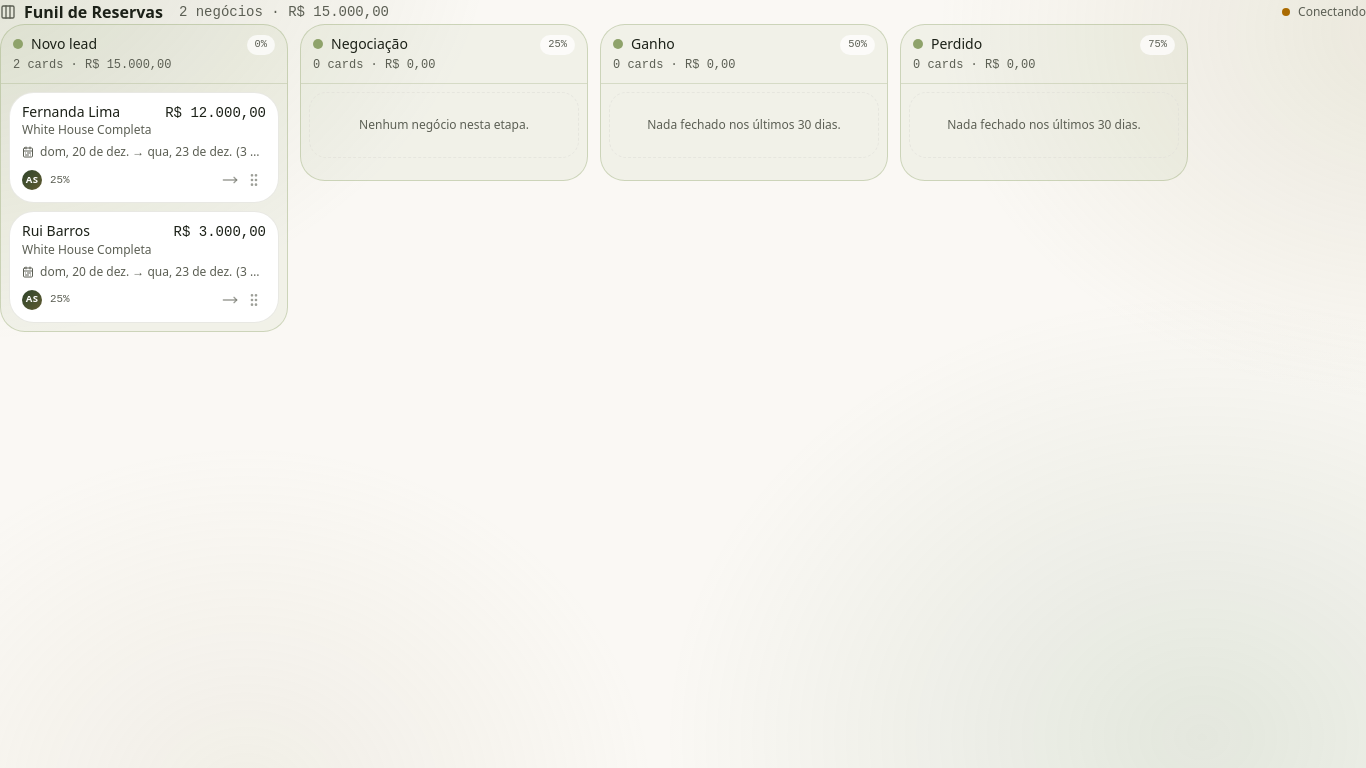
Test: PipelineKanban — colunas terminais › não move o card para Perdido: pede o motivo antes
Step 1. Click the button named "Mover Fernanda Lima para outra etapa" → [230, 180], box left=218, top=168, right=242, bottom=192
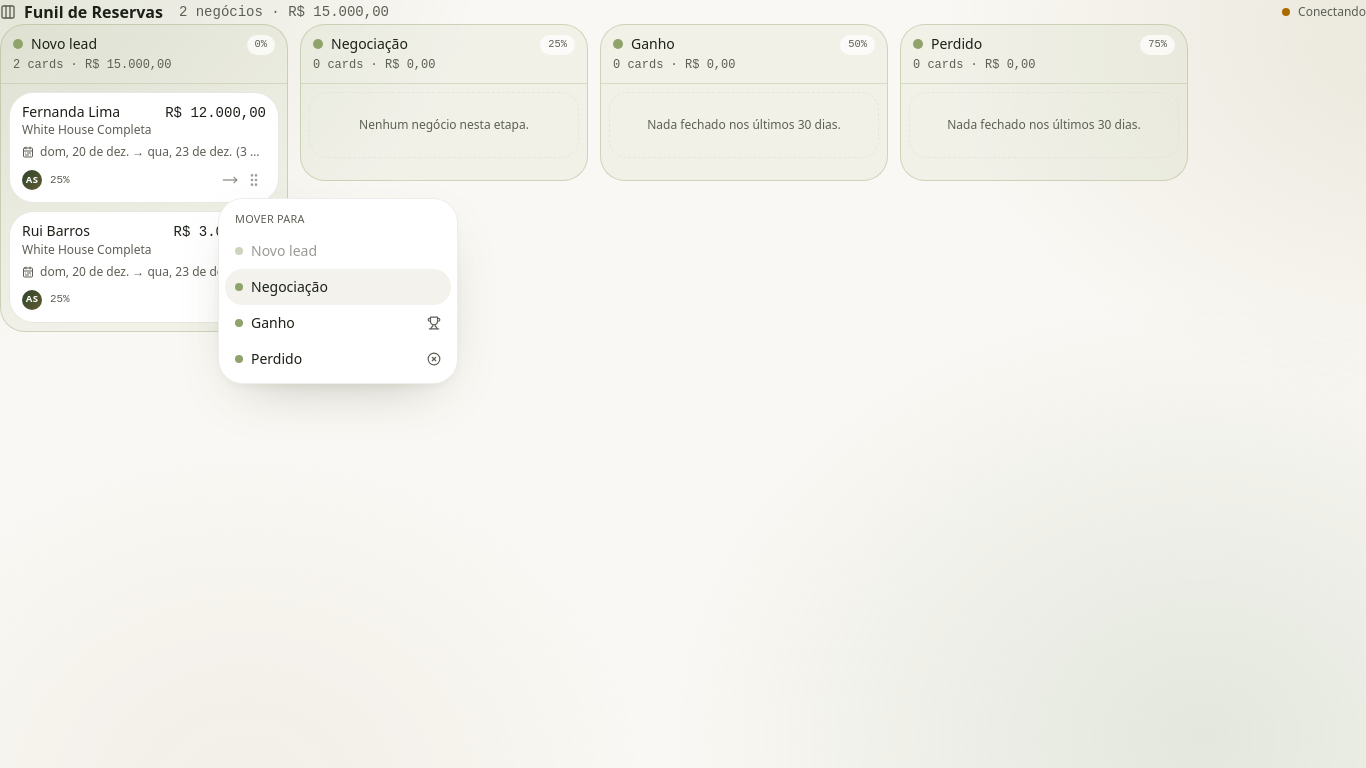
Step 2. Click the menu item "Perdido" → [277, 359], box left=235, top=349, right=441, bottom=368
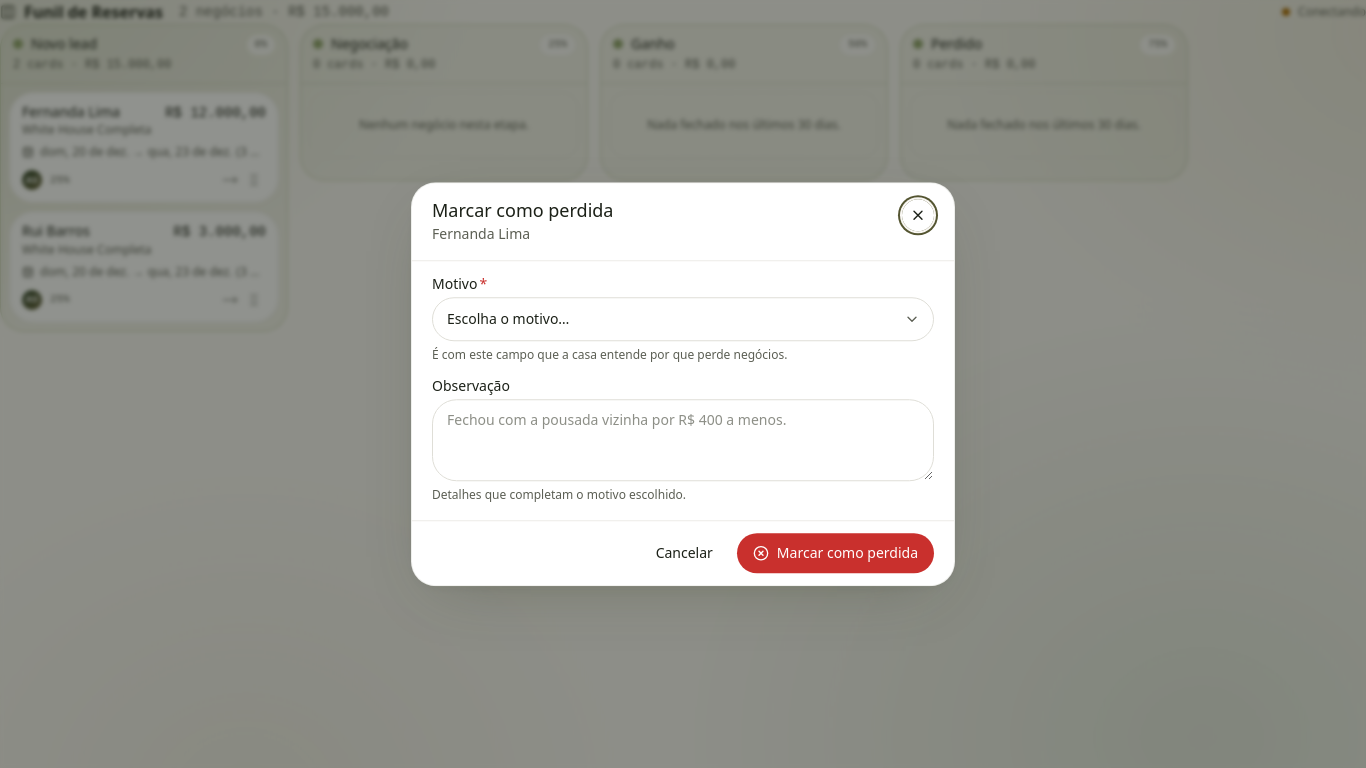
Expected: the dialog is shown, left=411, top=182, right=955, bottom=586
Expected: the dropdown labelled "Motivo*" is shown, left=432, top=297, right=934, bottom=341
